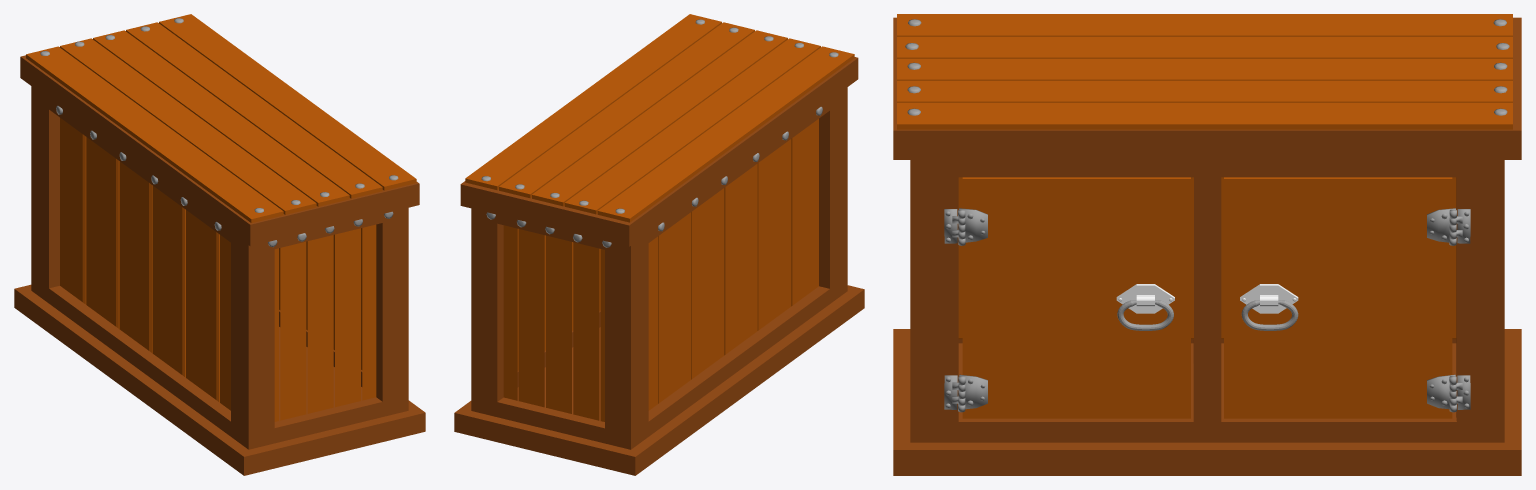
Rendered from Cabinet.fbx.
3 views of the same model, side by side, from view 1: azimuth 30°, elevation 25°; view 2: azimuth 150°, elevation 25°; view 3: azimuth 270°, elevation 25° (orthographic). The views are drawn at different scales.
Parts seen in each view (by area): view 1: Cabinet_LOD0; view 2: Cabinet_LOD0; view 3: Cabinet_LOD0.
Boxes of the visible parts, left/top/right/bottom form: Cabinet_LOD0: left=14, top=14, right=425, bottom=475; Cabinet_LOD0: left=454, top=14, right=864, bottom=475; Cabinet_LOD0: left=893, top=14, right=1521, bottom=475.
Size of what is drawn, in the model's own units: 269 by 362 by 590.
